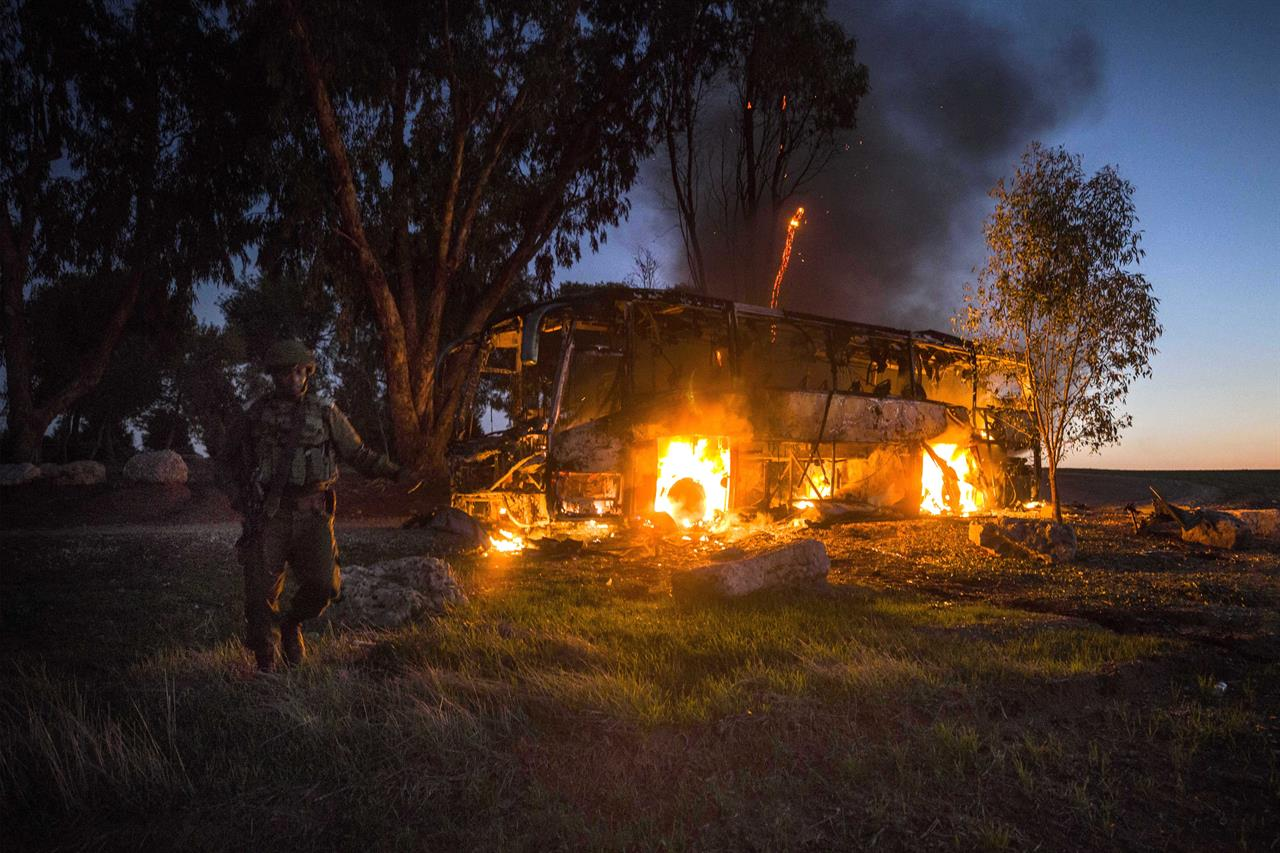fire: (619, 403, 775, 563), (879, 419, 1027, 547), (454, 444, 572, 580)
